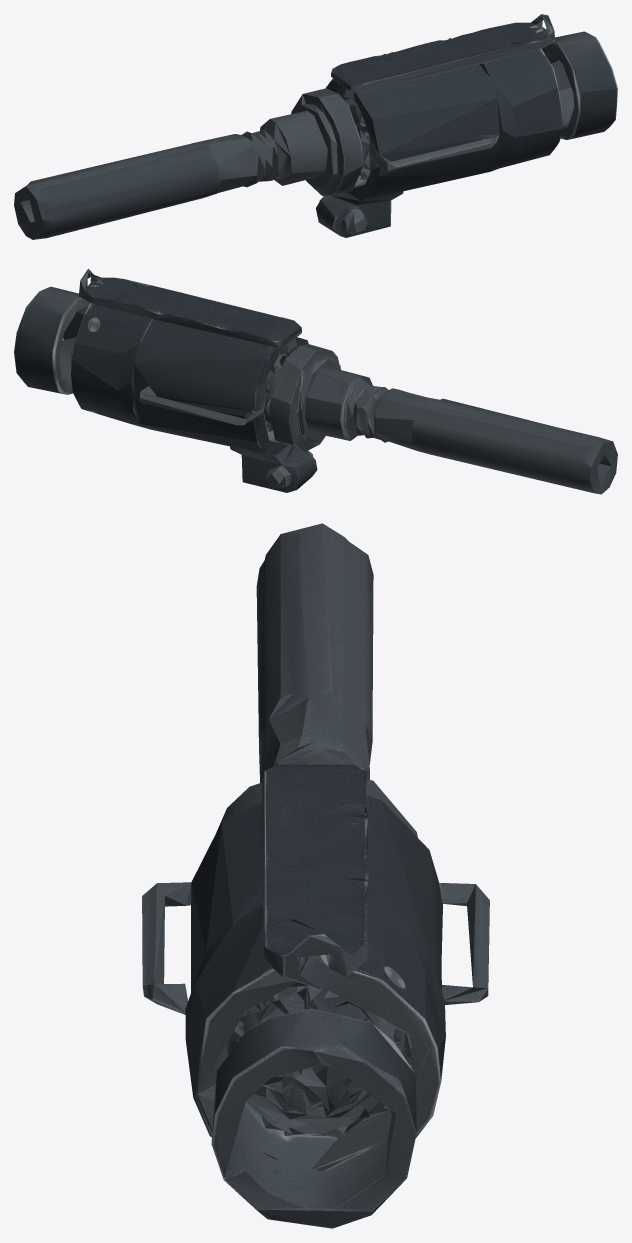
3 renders of one model, top to bottom at view 1: azimuth 30°, elevation 25°; view 2: azimuth 150°, elevation 25°; view 3: azimuth 270°, elevation 25°, orthographic. The views are drawn at different scales.
Size of the model in its own units: 1.9 by 0.531 by 0.5049.
Materials: 1 (1 with a texture image).
